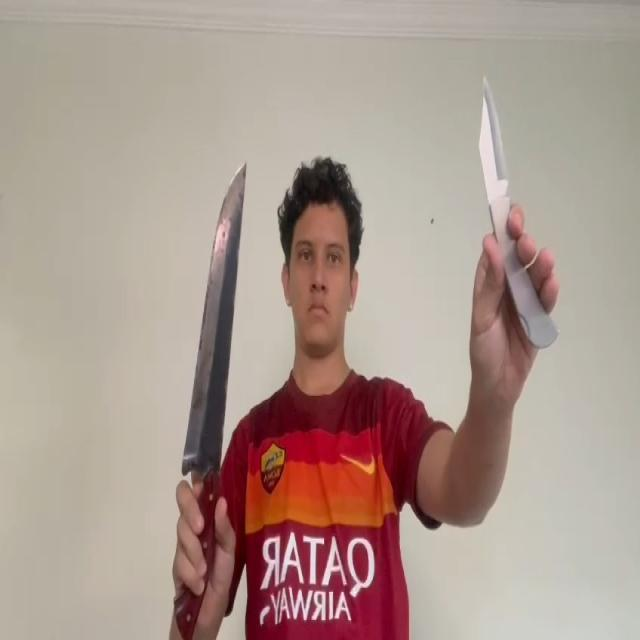knife: (180, 162, 248, 474), (480, 73, 509, 198)
